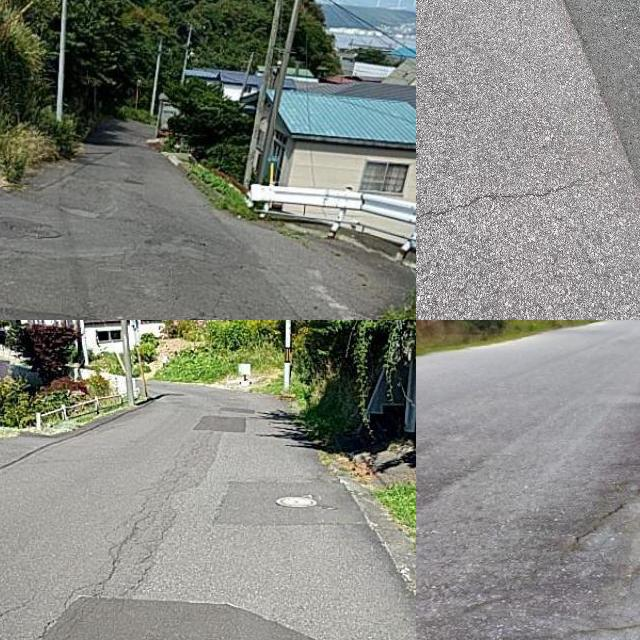Melintang: (416, 158, 639, 234)
Sambungan: (39, 602, 316, 640), (196, 411, 244, 435)
